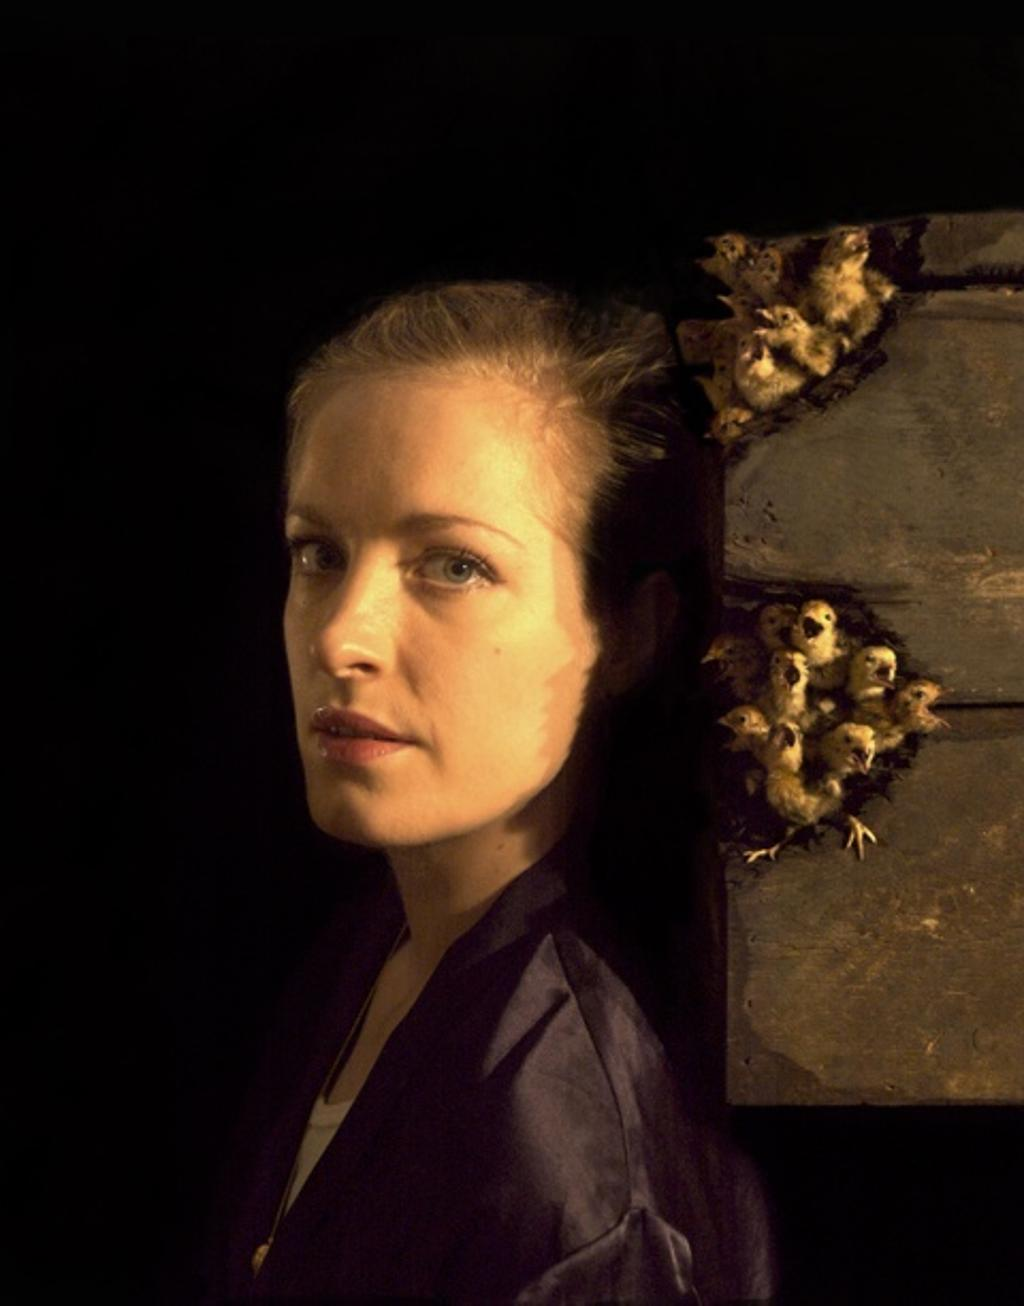face: (283, 369, 622, 838)
